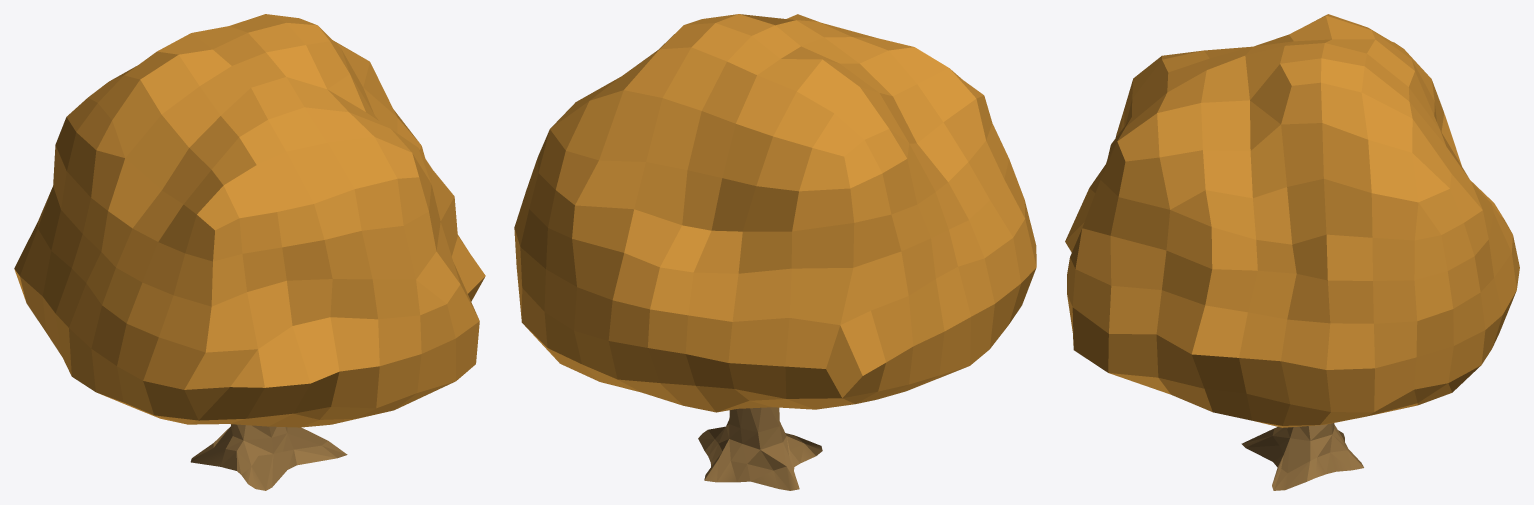
The model's file is Tree_1.fbx.
The picture shows the model from 3 angles, left to right: view 1: azimuth 30°, elevation 25°; view 2: azimuth 150°, elevation 25°; view 3: azimuth 270°, elevation 25°; orthographic projection. The views are drawn at different scales.
Visible parts, largest first — view 1: pPlane2; view 2: pPlane2; view 3: pPlane2.
Part boxes in pixels (x1=…): pPlane2: x1=14, y1=14, x2=485, y2=490; pPlane2: x1=514, y1=14, x2=1036, y2=490; pPlane2: x1=1065, y1=14, x2=1519, y2=490.
Bounding box in the file's own units: 4.4 × 4.48 × 4.45.
